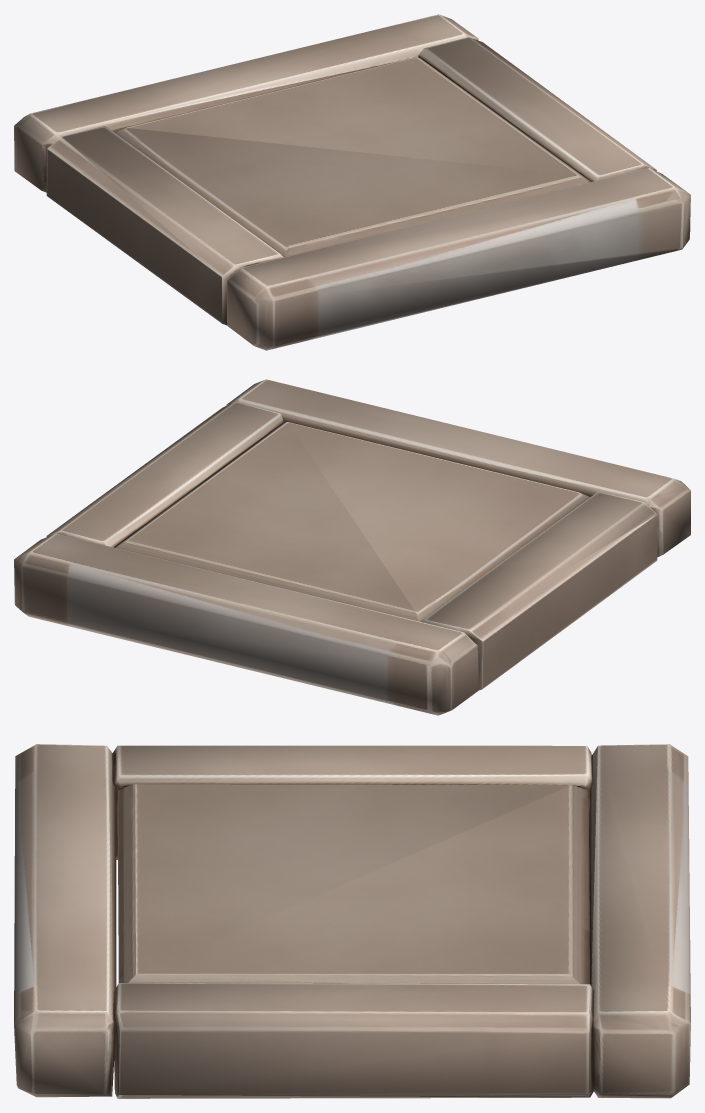
Rendered from Square.fbx.
3 views of the same model, one above another, from view 1: azimuth 30°, elevation 25°; view 2: azimuth 150°, elevation 25°; view 3: azimuth 270°, elevation 25° (orthographic). The views are drawn at different scales.
Visible parts, largest first — view 1: Mesh_0; view 2: Mesh_0; view 3: Mesh_0.
Part boxes in pixels (box(x1,y1,x2,y2)): Mesh_0: box(14, 14, 690, 350); Mesh_0: box(14, 379, 690, 715); Mesh_0: box(14, 744, 690, 1098).
Bounding box in the file's own units: 99.61 × 14.16 × 99.61.
1 material, 1 textured.
